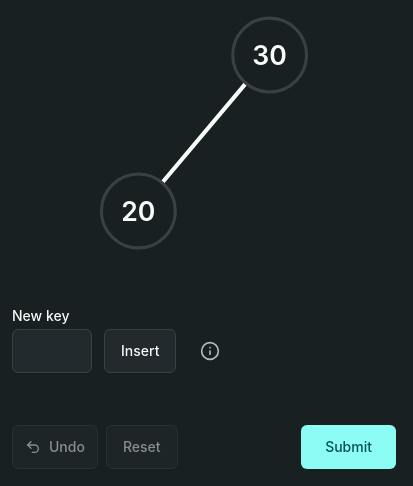
explains how to rotate a node from the info tip
Click the button named "How to rotate or delete a node" at (210, 351), box [188,329,232,373]
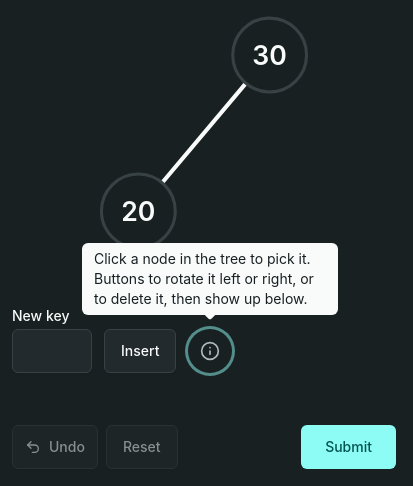
Expected: the tooltip "Click a node in the tree to pick it" is shown, [94,250,314,307]
